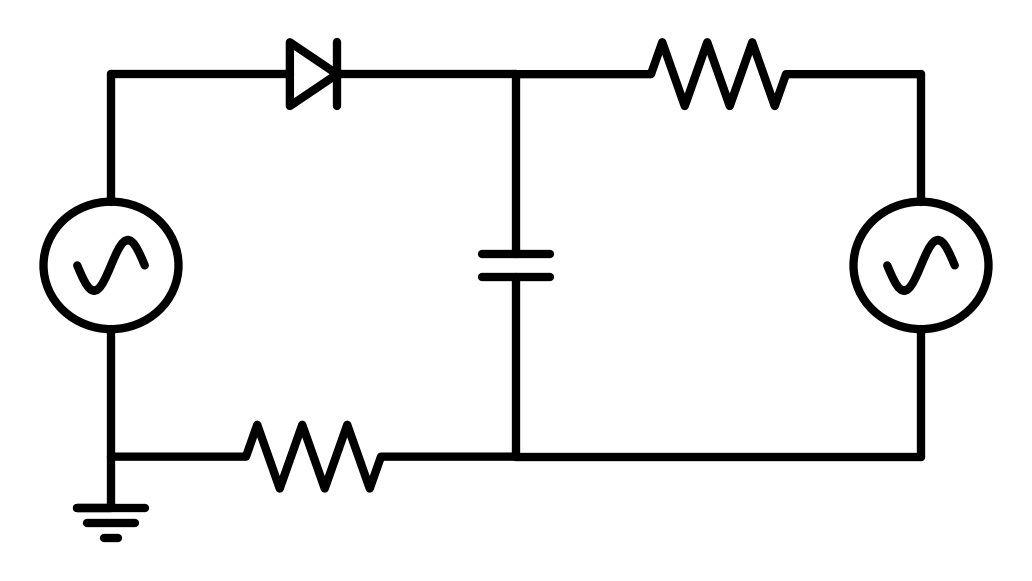capacitor: (468, 235, 563, 296)
diode: (270, 25, 357, 123)
ground: (71, 483, 151, 549)
resistor: (632, 24, 800, 124), (239, 406, 390, 499)
sourceac: (834, 183, 1000, 351), (32, 195, 194, 340)
